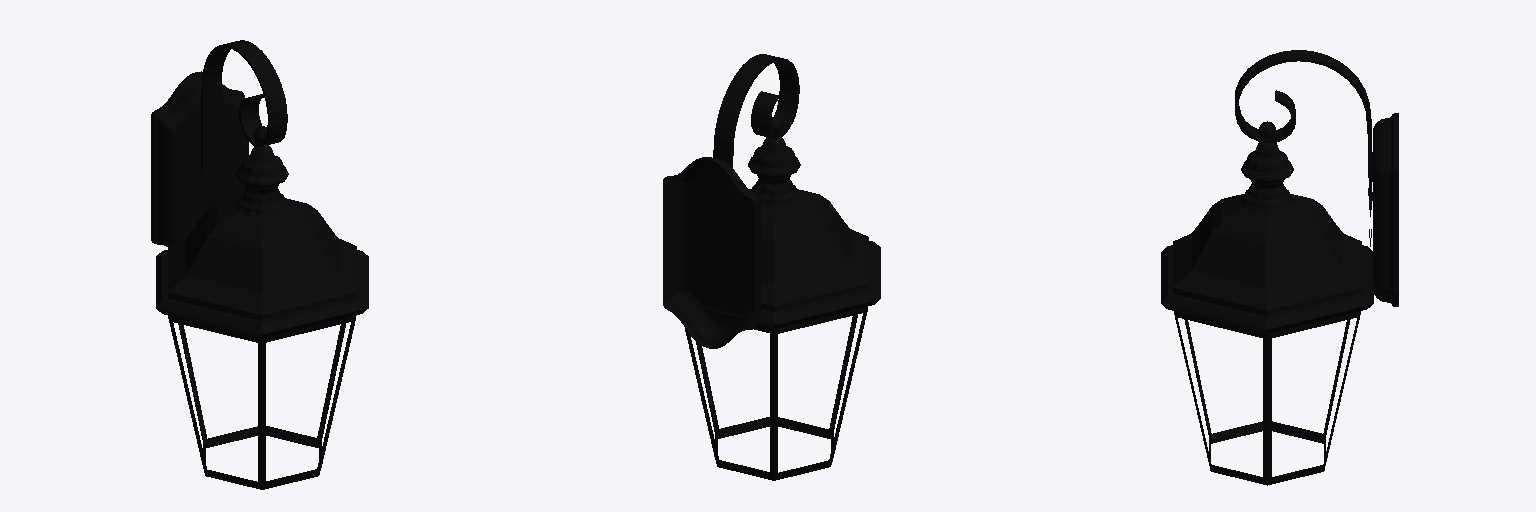
The model's file is lightFrame.obj.
3 views of the same model, side by side, from view 1: azimuth 30°, elevation 25°; view 2: azimuth 150°, elevation 25°; view 3: azimuth 270°, elevation 25° (orthographic).
Visible parts, largest first — view 1: porch_light_porch_light_PAINT_black; view 2: porch_light_porch_light_PAINT_black; view 3: porch_light_porch_light_PAINT_black.
Part boxes in pixels (x1,y1,x2,y2): porch_light_porch_light_PAINT_black: (151,40,368,489); porch_light_porch_light_PAINT_black: (663,54,880,480); porch_light_porch_light_PAINT_black: (1161,50,1398,485).
Bounding box in the file's own units: 1.76 × 3.2 × 1.71.